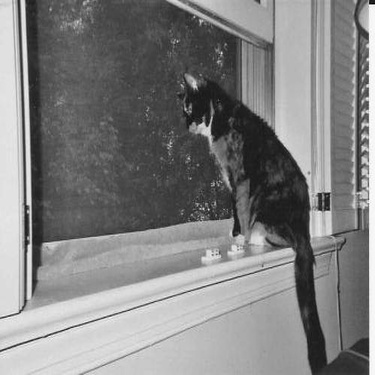cat: (181, 67, 331, 368)
